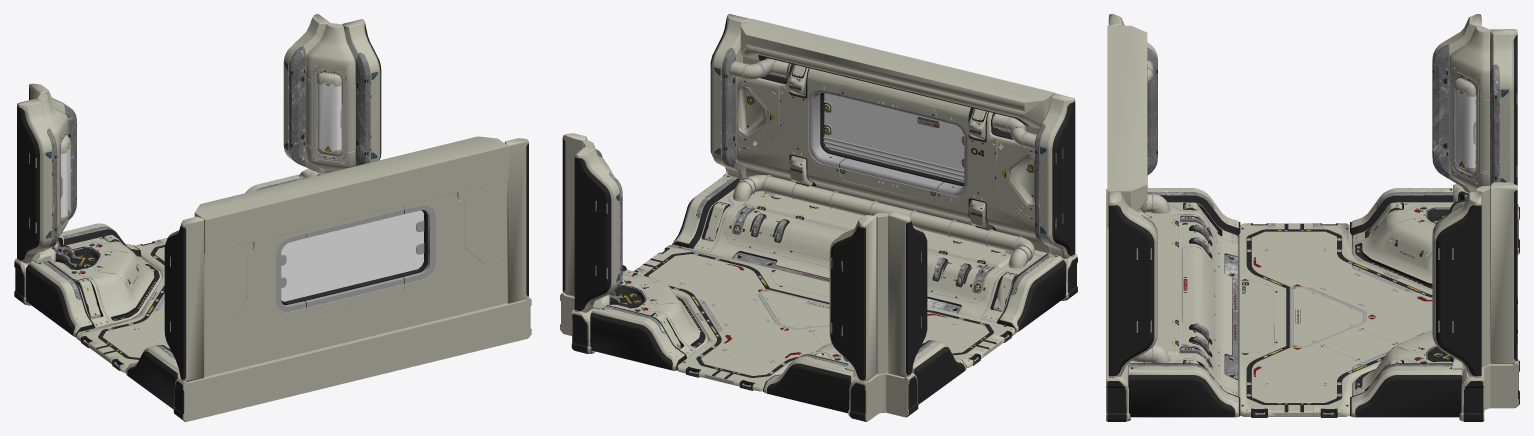
Rendered from corridor_T.glb.
The picture shows the model from 3 angles, left to right: view 1: azimuth 30°, elevation 25°; view 2: azimuth 150°, elevation 25°; view 3: azimuth 270°, elevation 25°; orthographic projection. The views are drawn at different scales.
Parts seen in each view (by area): view 1: Cube.019_Piece.002_Piece.004_Piece.003; view 2: Cube.019_Piece.002_Piece.004_Piece.003; view 3: Cube.019_Piece.002_Piece.004_Piece.003.
Boxes of the visible parts, x1,y1,x2,y2 form: Cube.019_Piece.002_Piece.004_Piece.003: (14, 14, 531, 421); Cube.019_Piece.002_Piece.004_Piece.003: (560, 14, 1077, 421); Cube.019_Piece.002_Piece.004_Piece.003: (1106, 14, 1519, 421).
Size of the model in its own units: 5.3 by 2.86 by 4.86.
11 materials, 1 textured.
